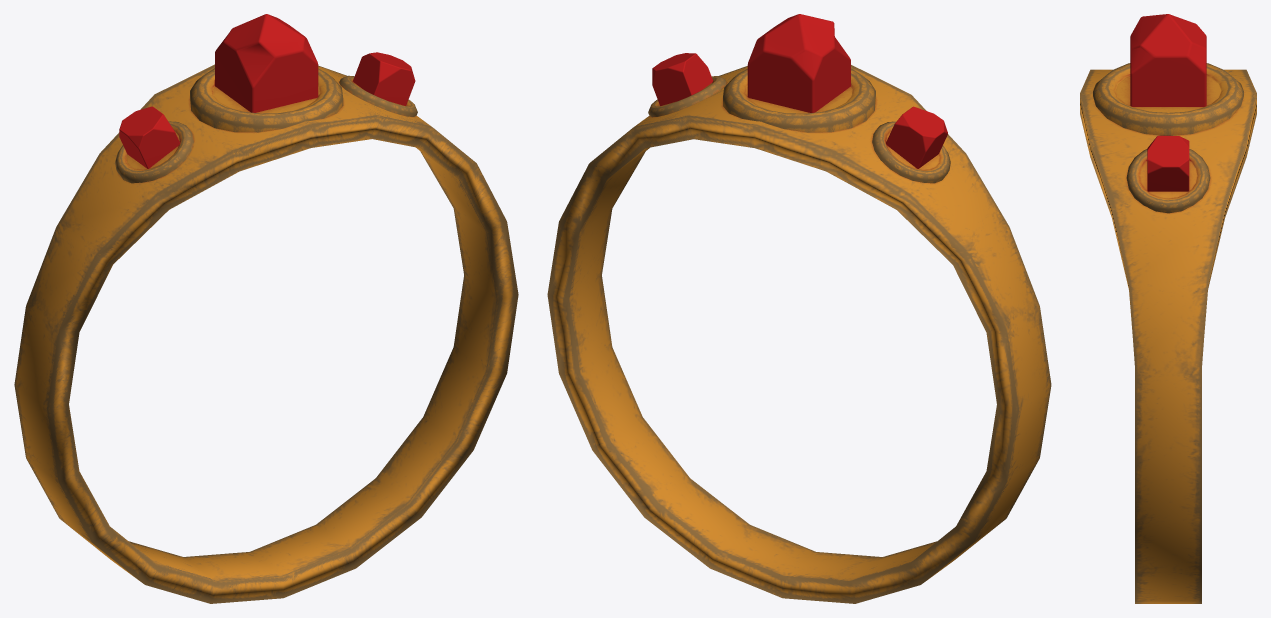
3 renders of one model, left to right at view 1: azimuth 30°, elevation 25°; view 2: azimuth 150°, elevation 25°; view 3: azimuth 270°, elevation 25°, orthographic.
Visible parts, largest first — view 1: Ring_LP1; view 2: Ring_LP1; view 3: Ring_LP1.
Part boxes in pixels (x1,y1,x2,y2): Ring_LP1: (14,14,518,603); Ring_LP1: (547,14,1051,603); Ring_LP1: (1080,14,1256,603).
Bounding box in the file's own units: 0.0637 × 0.074 × 0.0209.
1 material, 1 textured.
